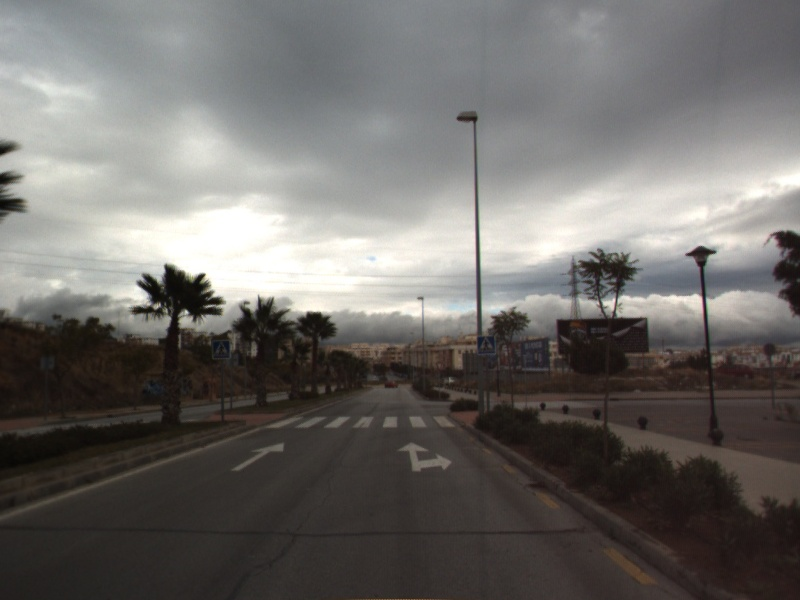STRAIGHT: (229, 441, 286, 473)
STRAIGHT_RIGHT: (395, 440, 454, 474)
